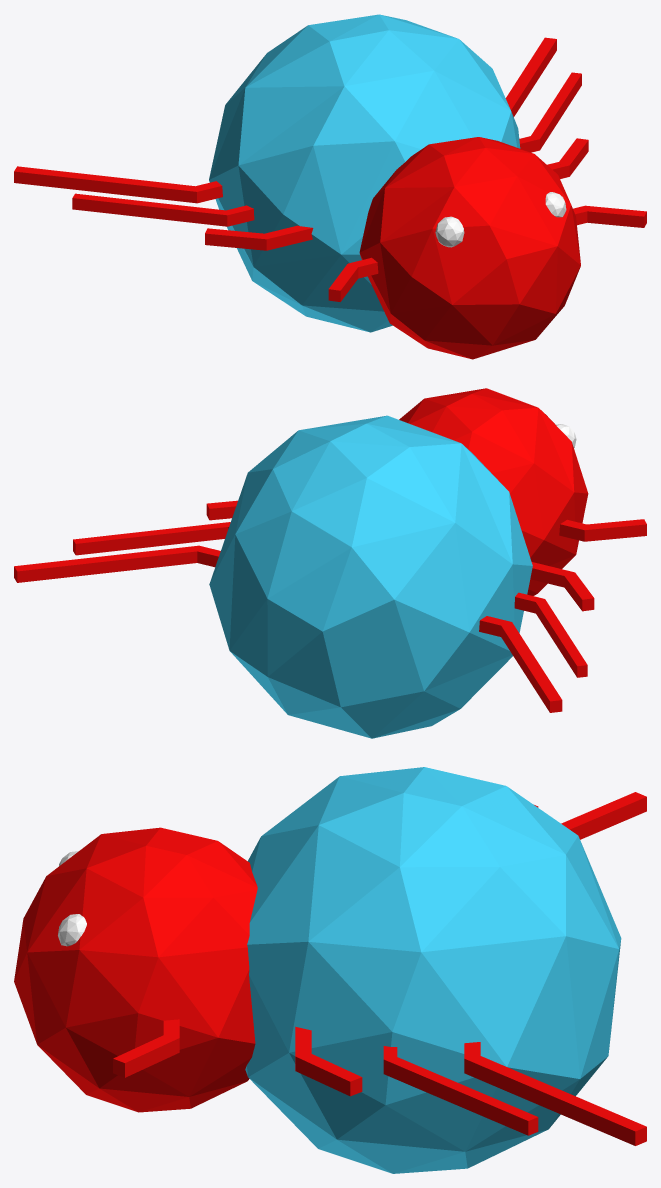
File: spider.glb
The picture shows the model from 3 angles, top to bottom: view 1: azimuth 30°, elevation 25°; view 2: azimuth 150°, elevation 25°; view 3: azimuth 270°, elevation 25°; orthographic projection. The views are drawn at different scales.
Visible parts, largest first — view 1: Abdomen, Spider, long leg 2, mid leg, short leg 2, mid leg 2, long leg, short leg 3, short leg 4, short leg, eye 2; view 2: Abdomen, Spider, long leg, mid leg 2, long leg 2, mid leg, short leg 4, short leg 2, short leg; view 3: Abdomen, Spider, long leg, mid leg 2, short leg, short leg 3, long leg 2, eye.
Part boxes in pixels (box(x1,y1,x2,y2)): Abdomen: box(209, 14, 520, 332); Spider: box(359, 137, 580, 359); long leg 2: box(14, 166, 222, 203); mid leg: box(72, 193, 254, 226); short leg 2: box(205, 225, 313, 250); mid leg 2: box(519, 72, 581, 152); long leg: box(505, 37, 556, 116); short leg 3: box(573, 205, 646, 227); short leg 4: box(328, 257, 378, 301); short leg: box(547, 138, 588, 178); eye 2: box(435, 216, 464, 247); Abdomen: box(209, 415, 532, 738); Spider: box(399, 388, 588, 595); long leg: box(14, 545, 220, 582); mid leg 2: box(73, 522, 230, 555); long leg 2: box(479, 616, 562, 712); mid leg: box(514, 592, 587, 677); short leg 4: box(559, 519, 646, 541); short leg 2: box(530, 562, 594, 611); short leg: box(206, 500, 237, 520); Abdomen: box(245, 767, 621, 1173); Spider: box(14, 827, 257, 1112); long leg: box(464, 1042, 646, 1145); mid leg 2: box(383, 1046, 538, 1135); short leg: box(295, 1026, 362, 1096); short leg 3: box(113, 1019, 179, 1077); long leg 2: box(561, 792, 646, 839); eye: box(58, 914, 86, 946).
Size of the model in its own units: 1.98 by 1 by 1.56.
